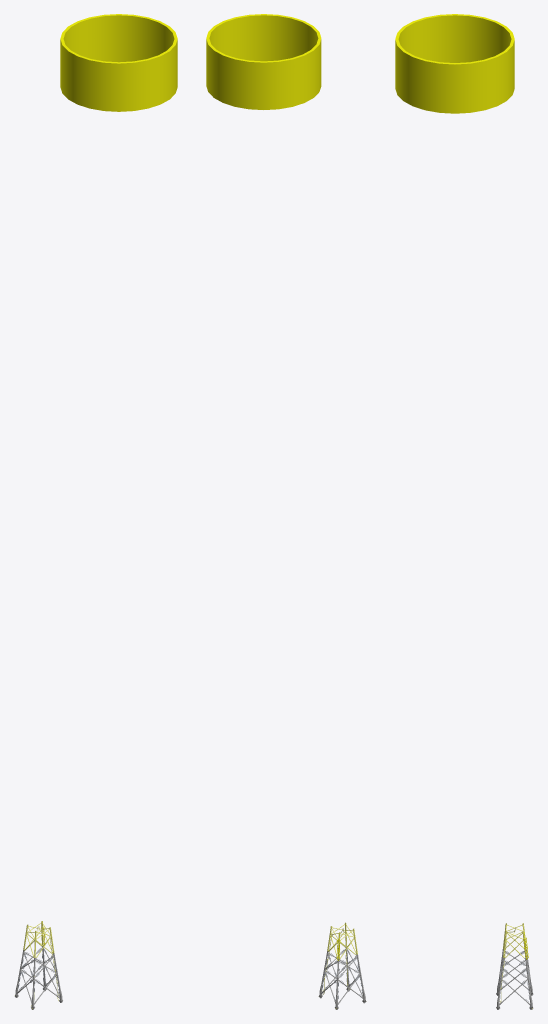
File: generic_fou.glb
The picture shows the model from 3 angles, left to right: view 1: azimuth 30°, elevation 25°; view 2: azimuth 210°, elevation 25°; view 3: azimuth 270°, elevation 25°; orthographic projection. The views are drawn at different scales.
Parts seen in each view (by area): view 1: Mesh_118, Mesh_118.001, Mesh_118.002; view 2: Mesh_118.001, Mesh_118.002; view 3: Mesh_118.001, Mesh_118.002.
Boxes of the visible parts, x1,y1,x2,y2 form: Mesh_118: [68, 15, 169, 111]; Mesh_118.001: [60, 14, 177, 102]; Mesh_118.002: [60, 30, 174, 98]; Mesh_118.001: [206, 14, 321, 109]; Mesh_118.002: [209, 15, 321, 109]; Mesh_118.001: [395, 14, 514, 113]; Mesh_118.002: [398, 30, 514, 100].
Bounding box in the file's own units: 100 × 790 × 100.
10 materials, 4 textured.
